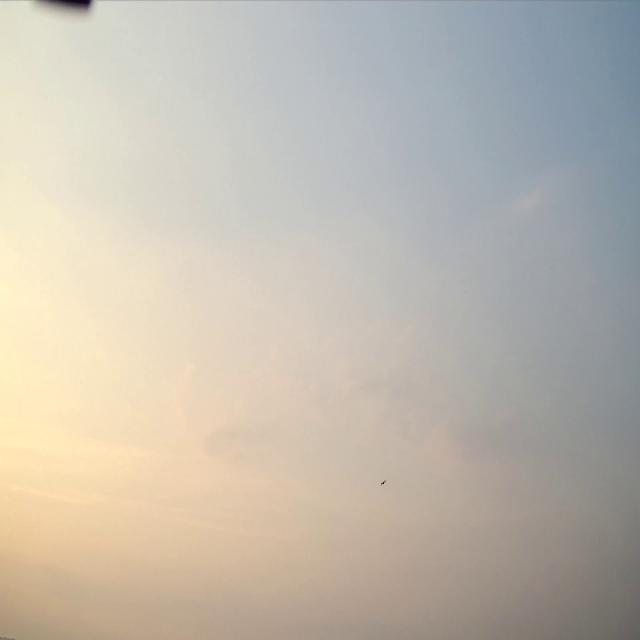UAV: (381, 479, 387, 485)
